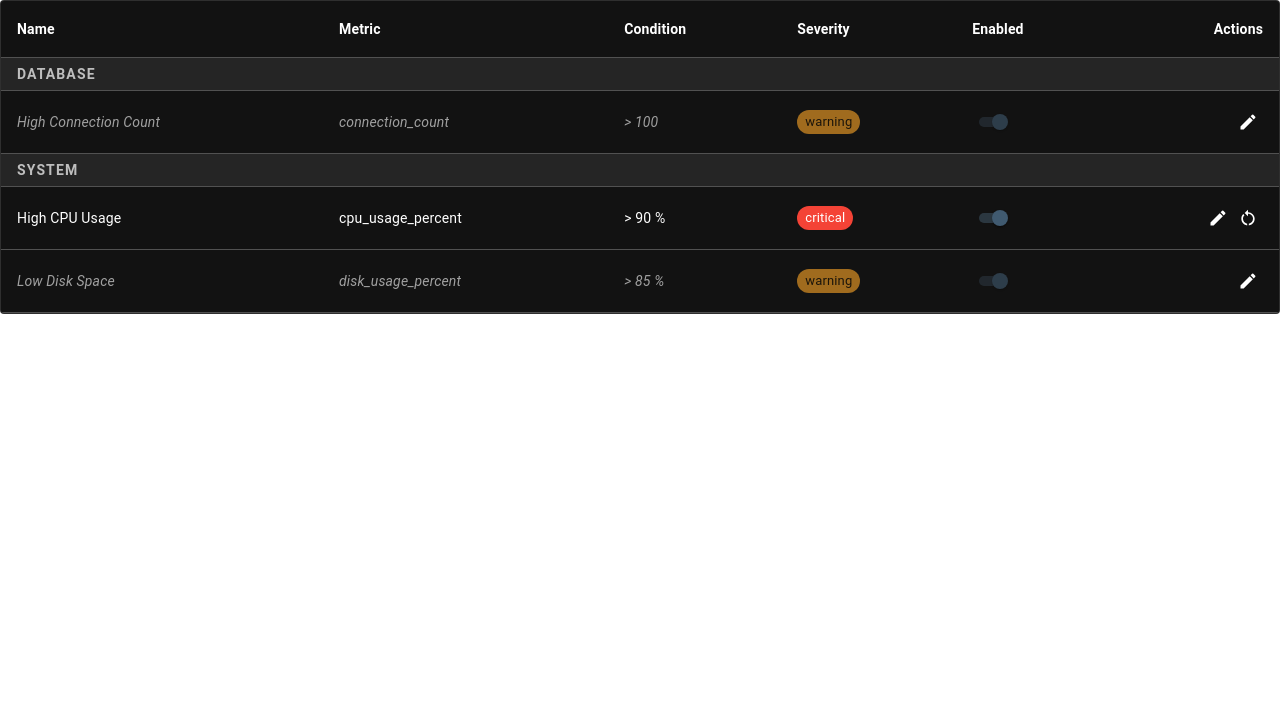
Test: AlertOverridesPanel › shows success banner after a successful save
Check: the text "High CPU Usage" is shown, box x1=1 y1=186 x2=323 y2=250
Click the button named "edit override" in the row of "High CPU Usage".
click(1218, 218)  # box x1=1203 y1=203 x2=1233 y2=233
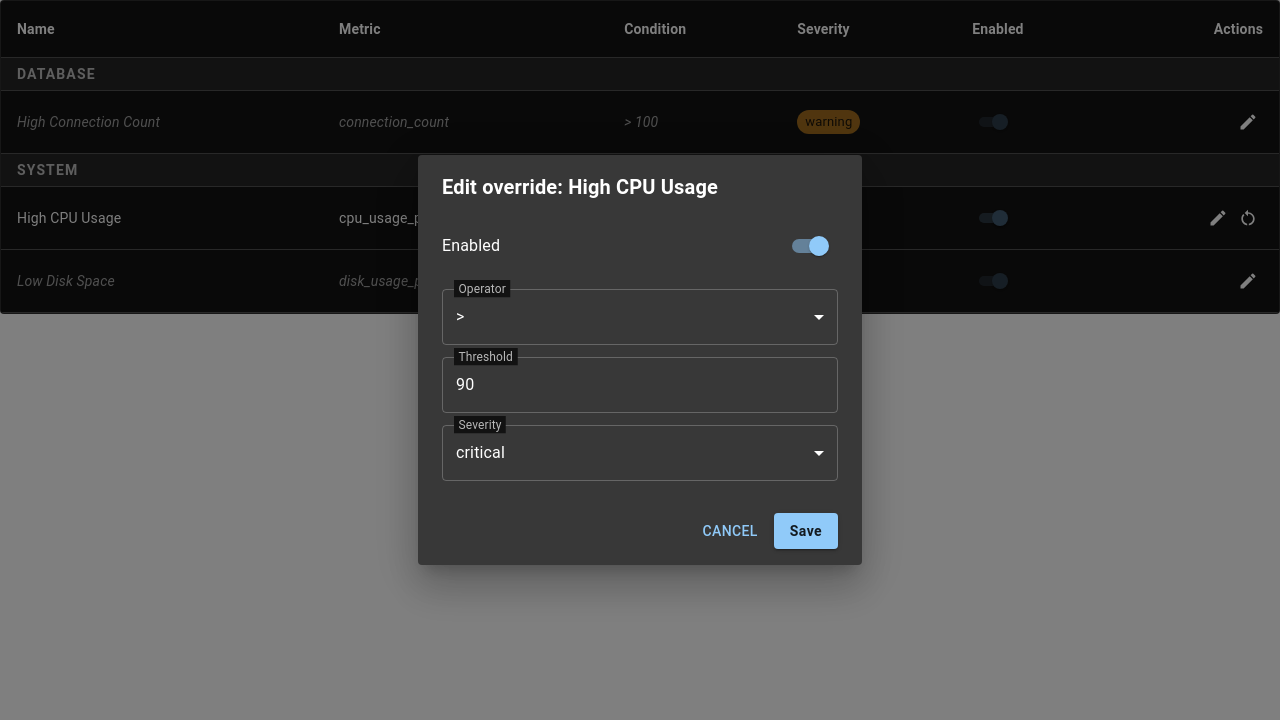
Check: the heading "Edit override: High CPU Usage" is shown, box x1=442 y1=175 x2=718 y2=199
Click the button "Save".
click(806, 531)  # box x1=774 y1=513 x2=838 y2=549
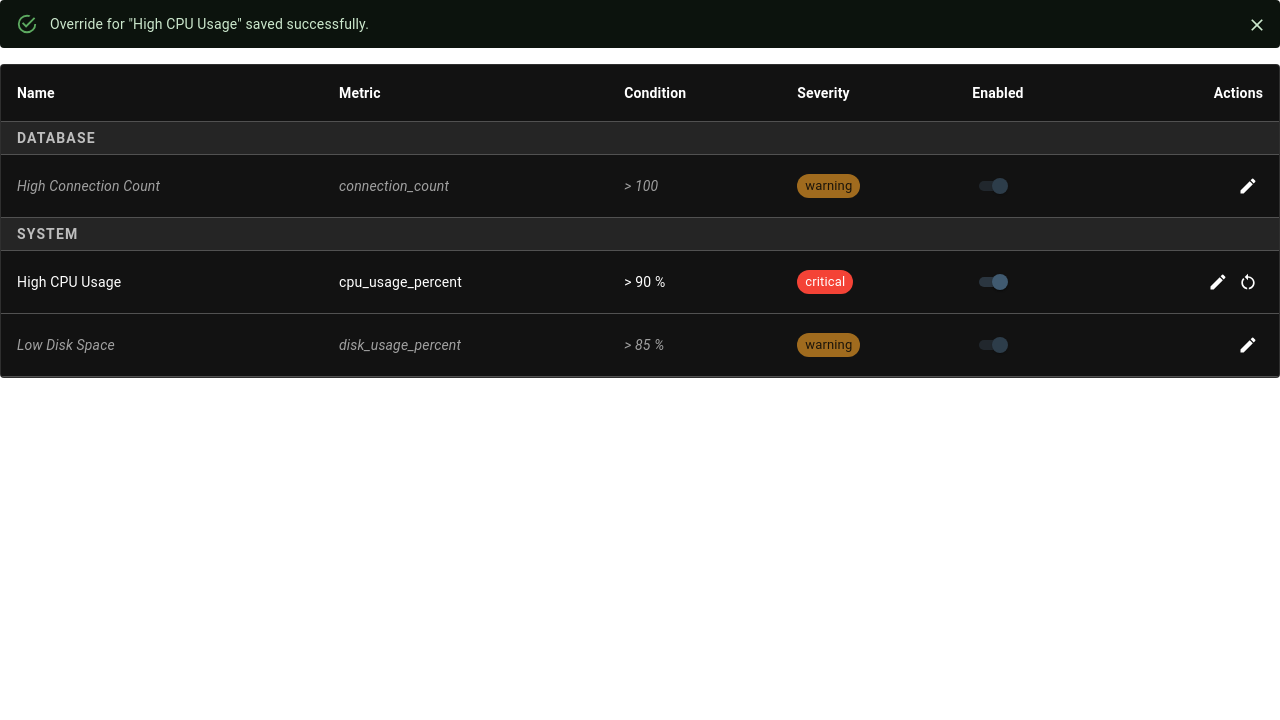
Check: the text "Override for \"High CPU Usage\" saved successfully." is shown, box x1=50 y1=16 x2=369 y2=32
